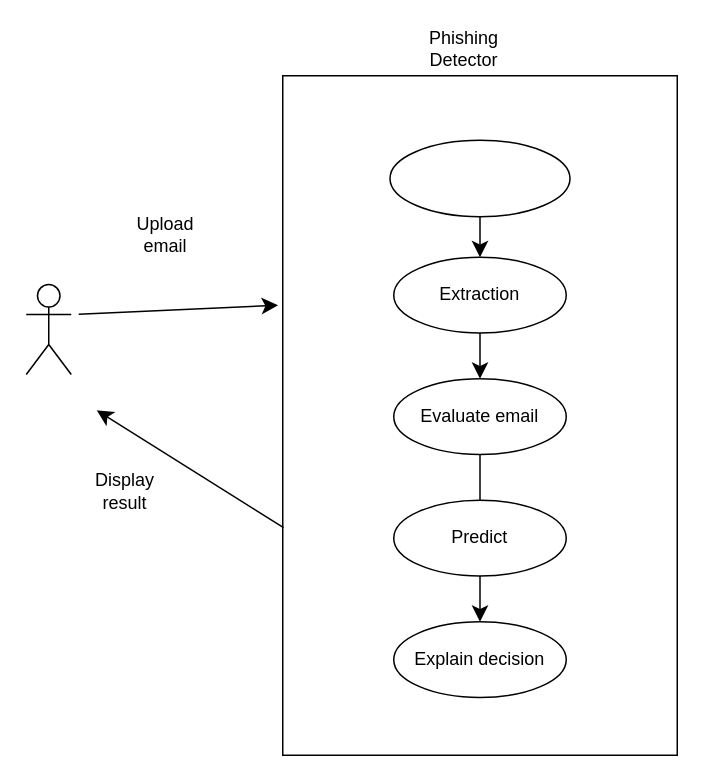
The diagram is 704 pixels wide and 782 high, and some of its shapes have lost their labels. The shapes that lost their labels are listed below. From the top down, each one's centre as x and y in pixels, then its label:
At pixel 479 178: "Validate input".
At pixel 48 329: "Actor".
